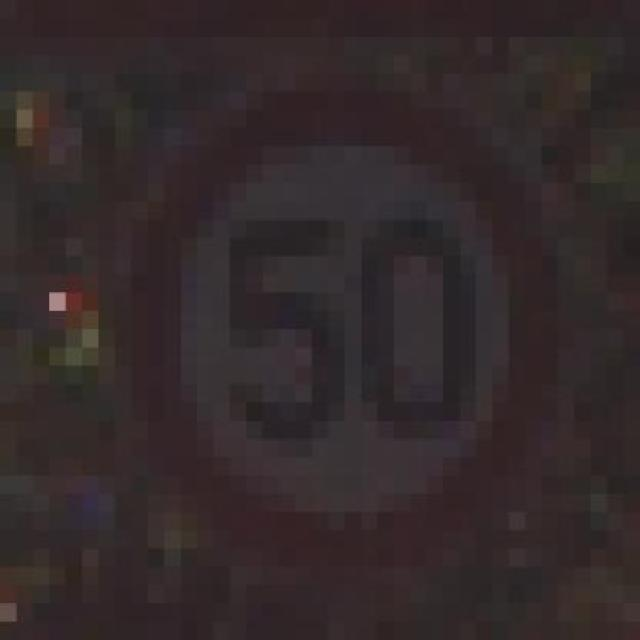forb_speed_over_50: (140, 85, 549, 559)
